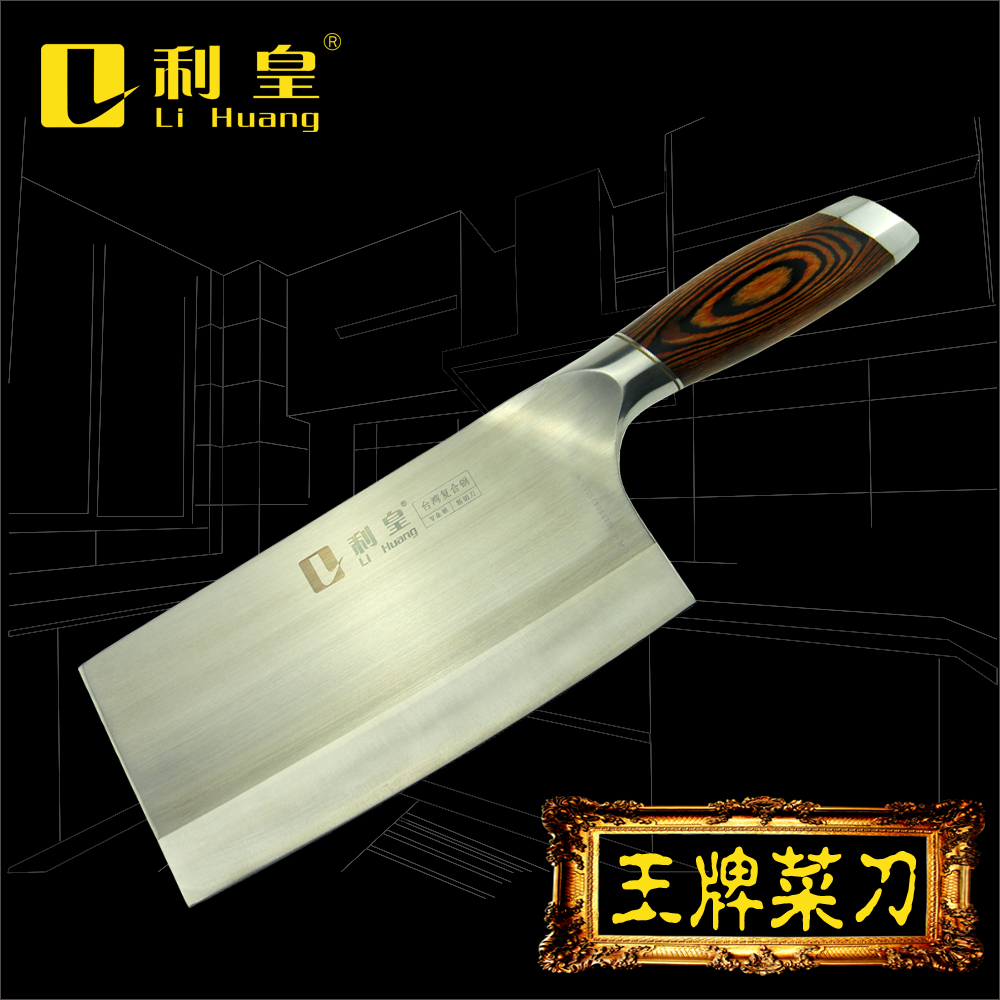knief: (155, 155, 916, 921)
